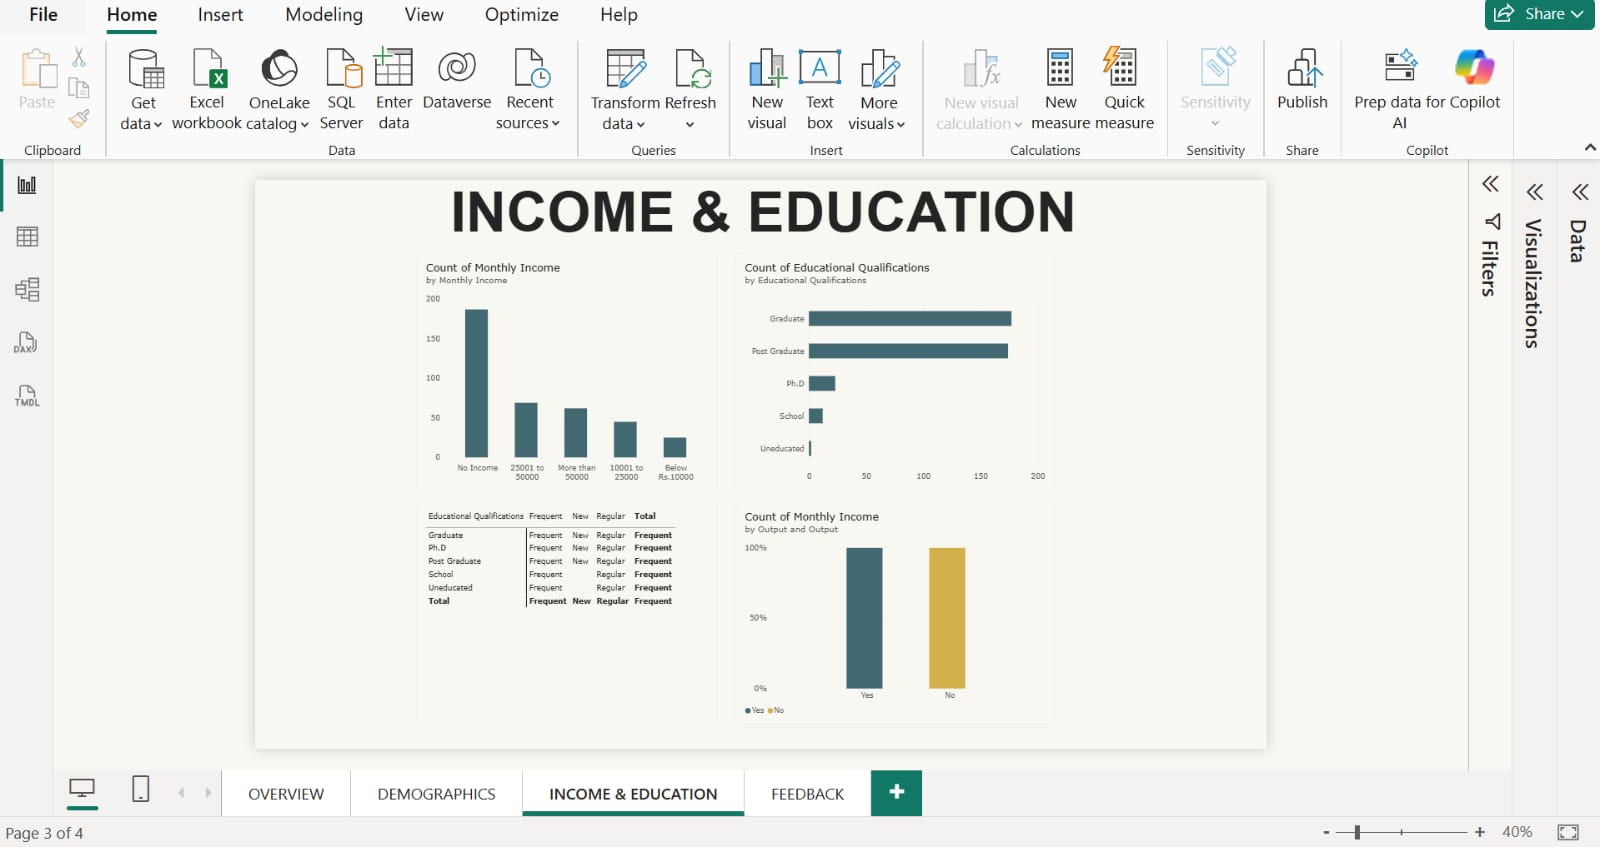

This screenshot's page, from the dashboard's own definition file:
{"tool":"powerbi","page":{"name":"INCOME & EDUCATION","canvas":[1920,1080],"ordinal":2},"visuals":[{"type":"textbox","box":[10,0,1910,280],"z":0},{"type":"clusteredColumnChart","fields":{"Category":["food_delivery_clean.Monthly Income"],"Y":["CountNonNull(food_delivery_clean.Monthly Income)"]},"box":[307.5,139.1,570,453.3],"z":1000},{"type":"clusteredBarChart","fields":{"Category":["food_delivery_clean.Educational Qualifications"],"Y":["CountNonNull(food_delivery_clean.Educational Qualifications)"]},"box":[911.9,139.1,604.4,454.6],"z":2000},{"type":"hundredPercentStackedColumnChart","fields":{"Category":["food_delivery_clean.Output"],"Series":["food_delivery_clean.Output"],"Y":["CountNonNull(food_delivery_clean.Monthly Income)"]},"box":[911.9,612.4,604.4,427.9],"z":3000},{"type":"pivotTable","fields":{"Columns":["food_delivery_clean.Customer Type"],"Rows":["food_delivery_clean.Educational Qualifications"],"Values":["Min(food_delivery_clean.Customer Type)"]},"box":[307.5,612.4,570,426.7],"z":4000}]}

Visuals, with their boxes on the page's 1920x1080 design canvas (x1, y1, x2, y2). These are canvas units, not pixel positions in the 1600x847 screenshot, which may show the page scaled, cropped or inside an application window:
textbox: 10,0,1920,280
clusteredColumnChart - food_delivery_clean.Monthly Income x CountNonNull(food_delivery_clean.Monthly Income): 308,139,878,592
clusteredBarChart - food_delivery_clean.Educational Qualifications x CountNonNull(food_delivery_clean.Educational Qualifications): 912,139,1516,594
hundredPercentStackedColumnChart - food_delivery_clean.Output x food_delivery_clean.Output: 912,612,1516,1040
pivotTable - food_delivery_clean.Customer Type x food_delivery_clean.Educational Qualifications: 308,612,878,1039
